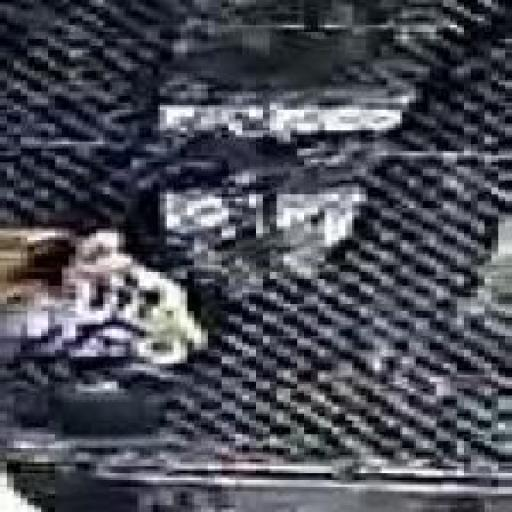Tiger: (0, 210, 242, 469)
